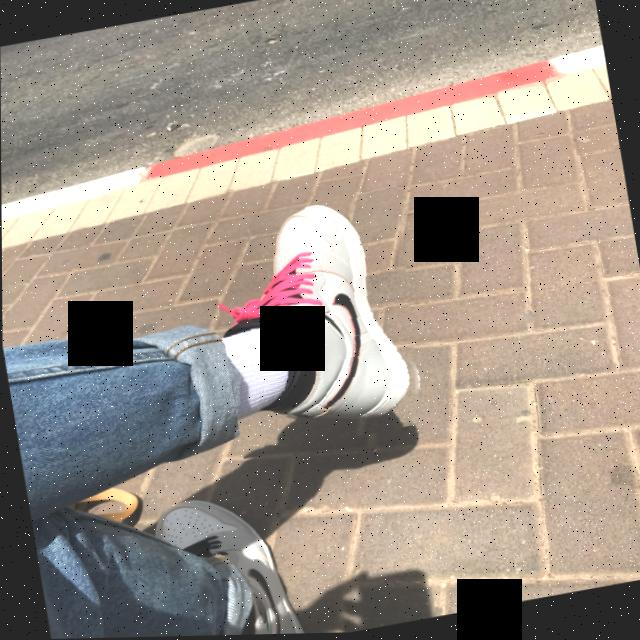shoe: (204, 186, 436, 461)
